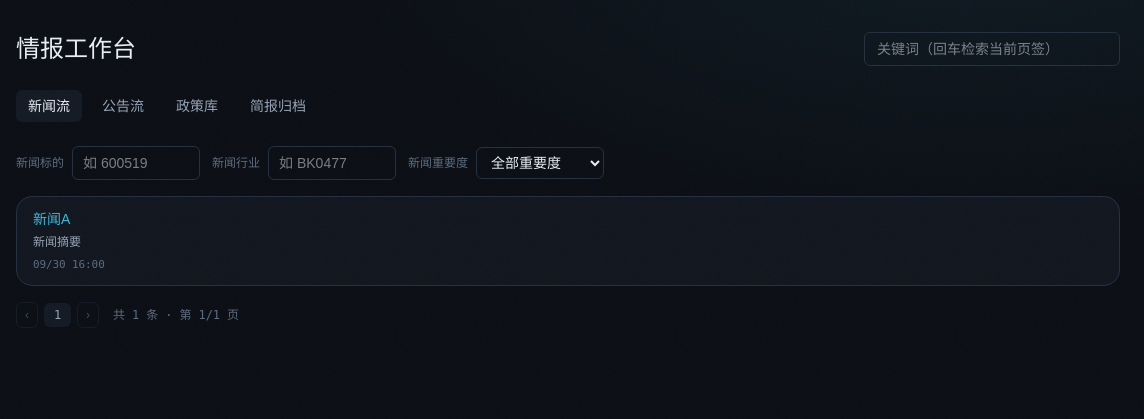
Test: IntelligenceBoard › 四 tab 切换：各 tab 挂载拉取并渲染各自区块
Check: the link "新闻A" is shown, box [33,211,70,227]
Click the button with test id "intel-tab-announcements". click: (123, 106)
box: [90,90,156,122]
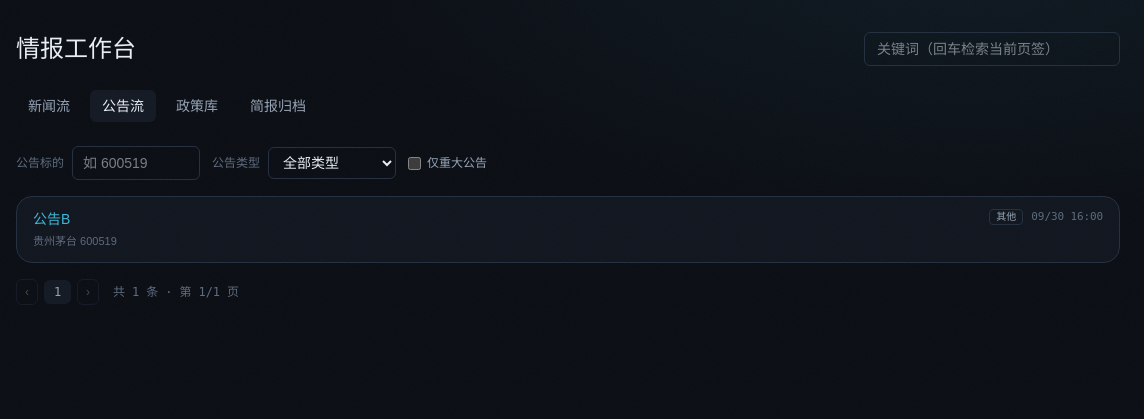
Check: the link "公告B" is shown, box [33,211,70,227]
Click the button with test id "intel-tab-policies". click: (197, 106)
box: [164,90,230,122]
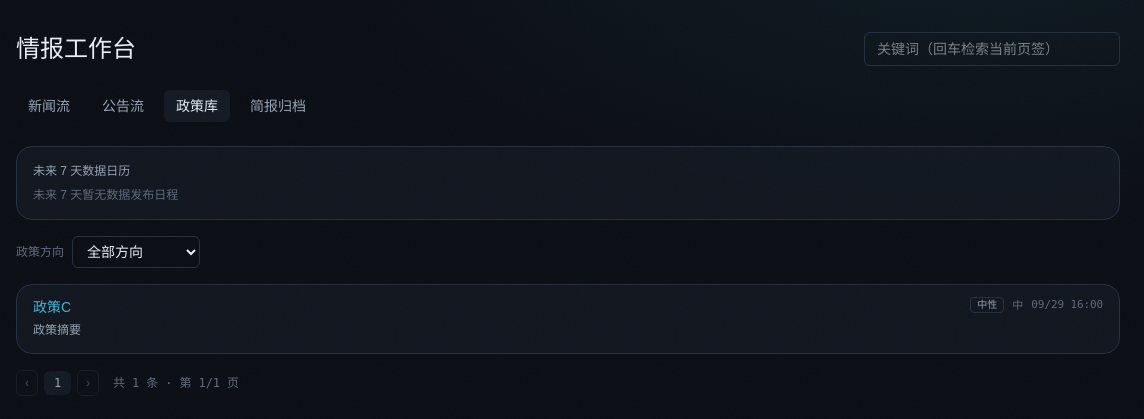
Check: the link "政策C" is shown, box [33,299,71,315]
Click the button with test id "intel-tab-briefs". click: (278, 106)
box: [238,90,318,122]
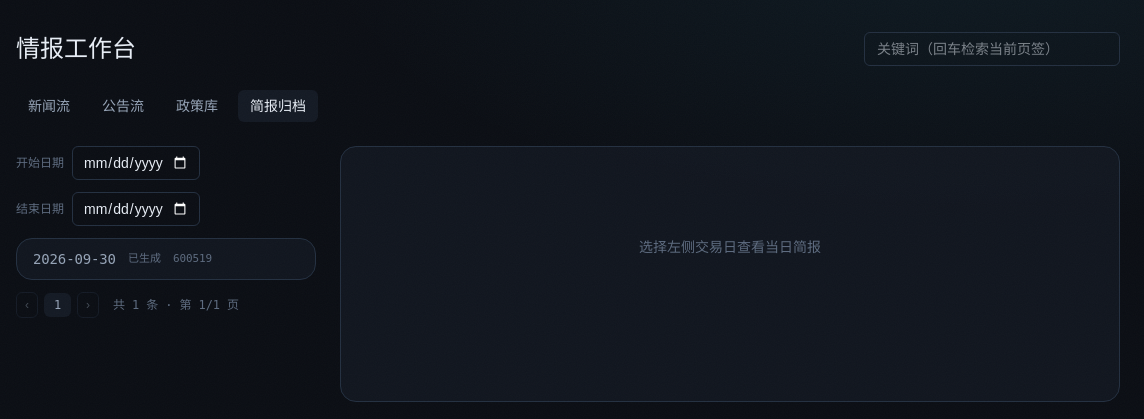
Check: the text "2026-09-30" is shown, box [33,249,116,269]
